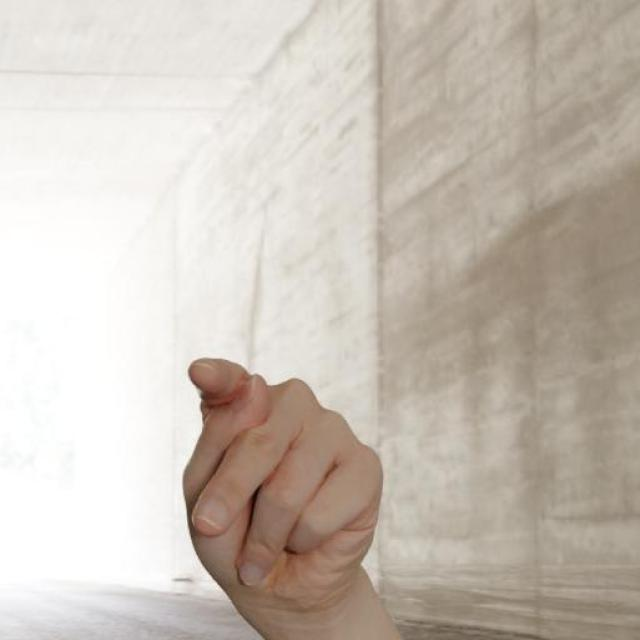P: (170, 355, 394, 640)
